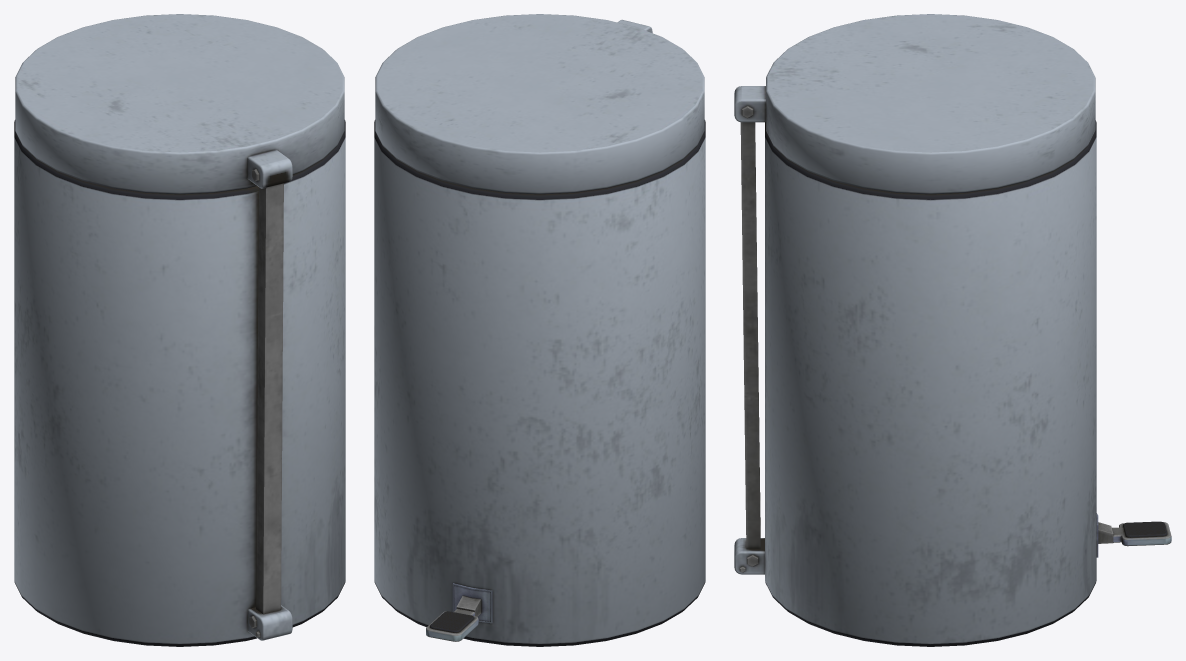
File: bin_1.gltf
3 views of the same model, side by side, from view 1: azimuth 30°, elevation 25°; view 2: azimuth 150°, elevation 25°; view 3: azimuth 270°, elevation 25° (orthographic).
Visible parts, largest first — view 1: Base__0, Door__0; view 2: Base__0, Door__0; view 3: Base__0, Door__0.
Part boxes in pixels (<box>): Base__0: <box>14,120,345,646</box>; Door__0: <box>15,14,344,194</box>; Base__0: <box>374,120,705,646</box>; Door__0: <box>375,14,704,194</box>; Base__0: <box>734,120,1171,646</box>; Door__0: <box>734,14,1095,194</box>.
Size of the model in its own units: 1 by 1.64 by 1.31.
1 material, 1 textured.
